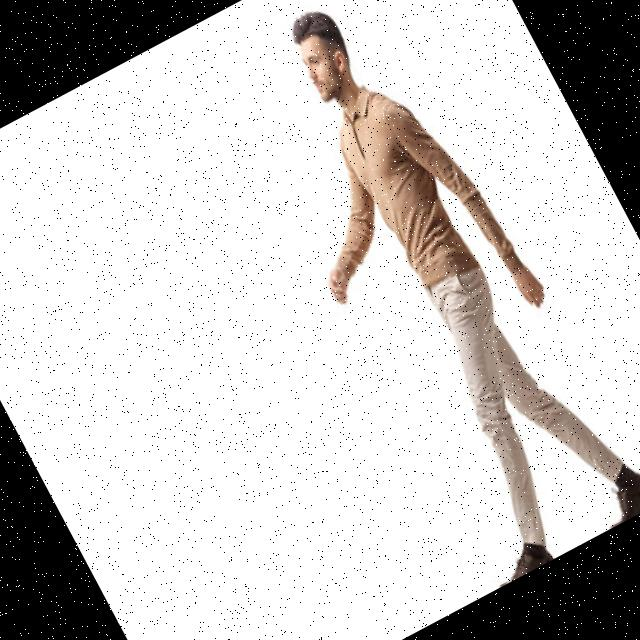Person: (210, 0, 640, 590)
